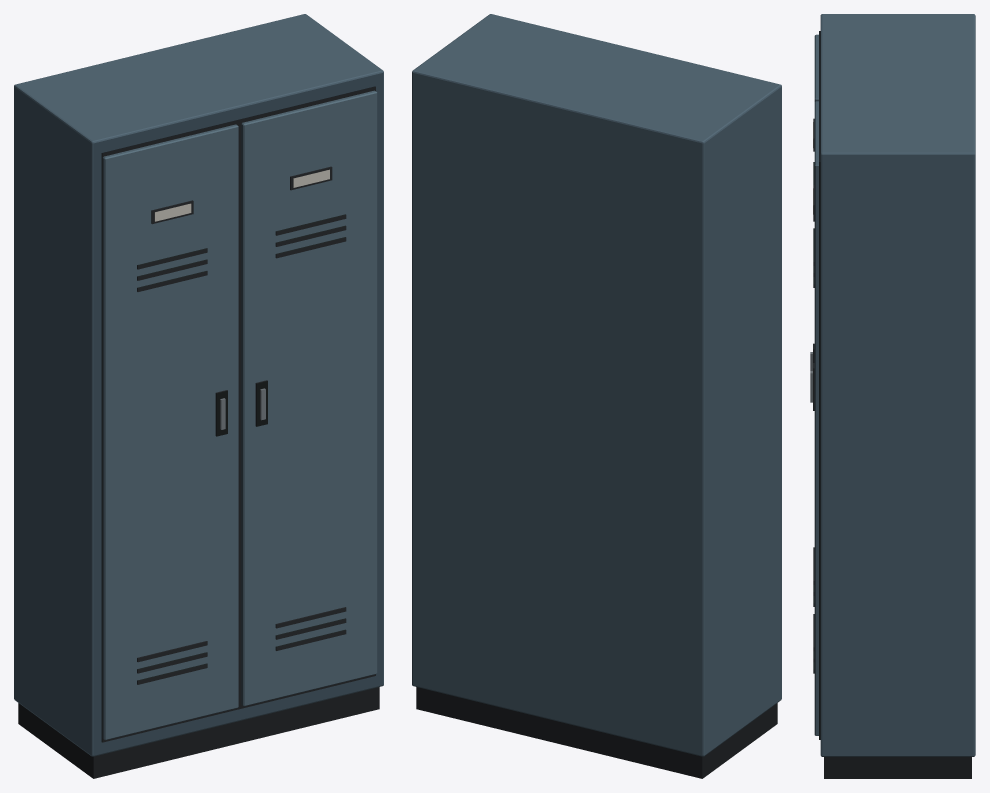
File: prop_school_tall_locker.glb
The picture shows the model from 3 angles, left to right: view 1: azimuth 30°, elevation 25°; view 2: azimuth 150°, elevation 25°; view 3: azimuth 270°, elevation 25°; orthographic projection.
Visible parts, largest first — view 1: prop_school_tall_locker; view 2: prop_school_tall_locker; view 3: prop_school_tall_locker.
Boxes of the visible parts, bbox=[...] form: prop_school_tall_locker: bbox=[14, 14, 383, 778]; prop_school_tall_locker: bbox=[412, 14, 781, 778]; prop_school_tall_locker: bbox=[810, 14, 975, 778].
Size of the model in its own units: 0.92 by 1.92 by 0.458.
